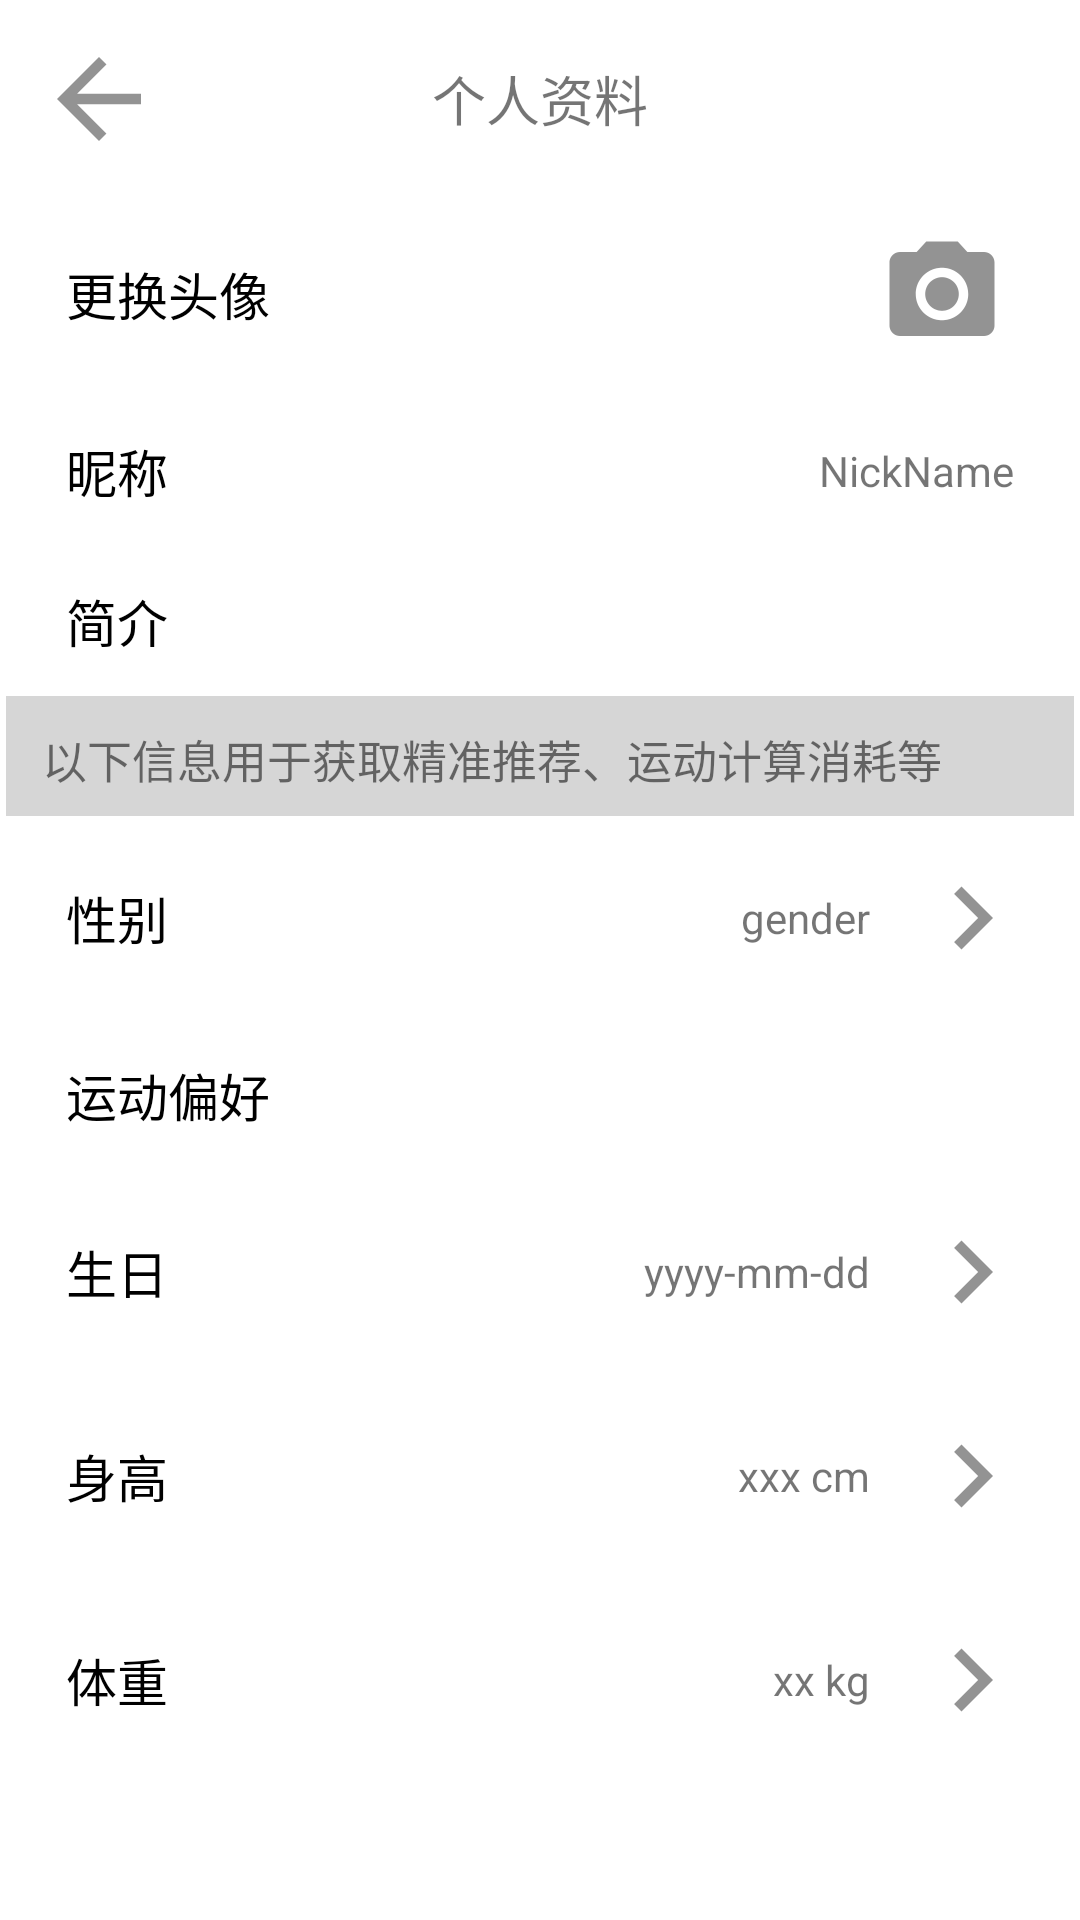

Icons on this 1080*1920 Android screen, each with its box as [x1,y1,x2,y2]:
arrow back: [57,57,141,141]
camera: [889,241,995,336]
keyboard arrow right: [954,886,993,950], [954,1240,993,1304], [954,1444,993,1508], [954,1648,993,1712]
